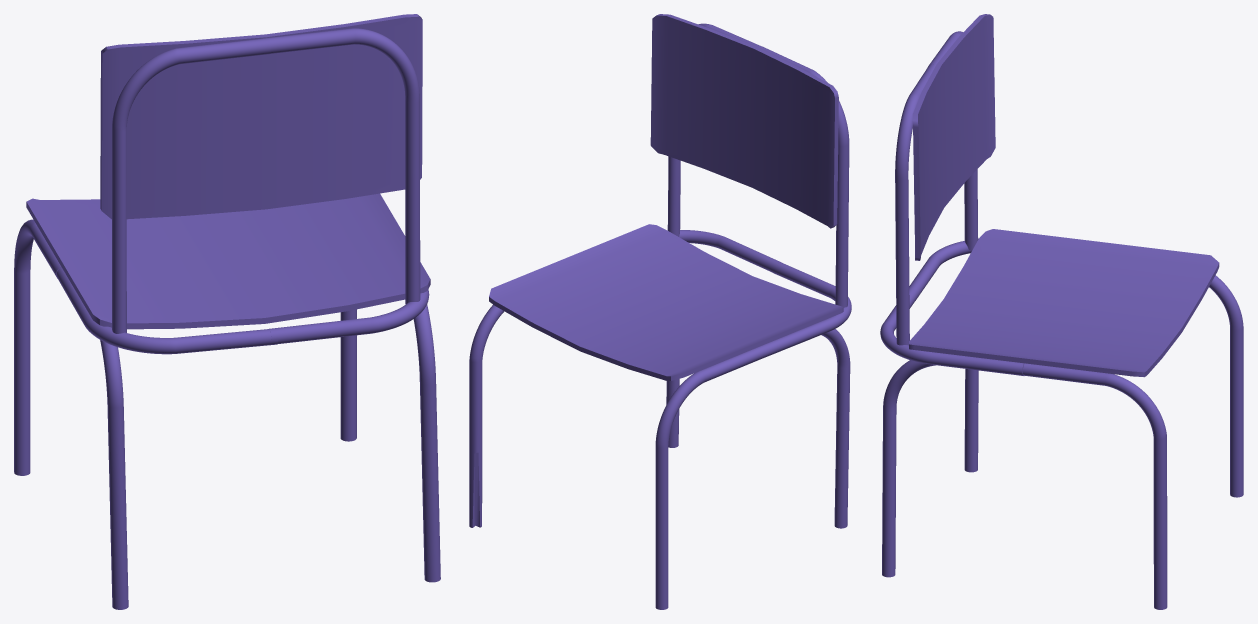
Rendered from chair.fbx.
3 views of the same model, side by side, from view 1: azimuth 30°, elevation 25°; view 2: azimuth 150°, elevation 25°; view 3: azimuth 270°, elevation 25° (orthographic). The views are drawn at different scales.
Parts seen in each view (by area): view 1: chair:pCylinder15; view 2: chair:pCylinder15; view 3: chair:pCylinder15.
Boxes of the visible parts, bbox=[...] form: chair:pCylinder15: bbox=[14, 14, 440, 609]; chair:pCylinder15: bbox=[469, 14, 851, 609]; chair:pCylinder15: bbox=[880, 14, 1243, 609].
Bounding box in the file's own units: 0.0279 × 0.0404 × 0.0291.
